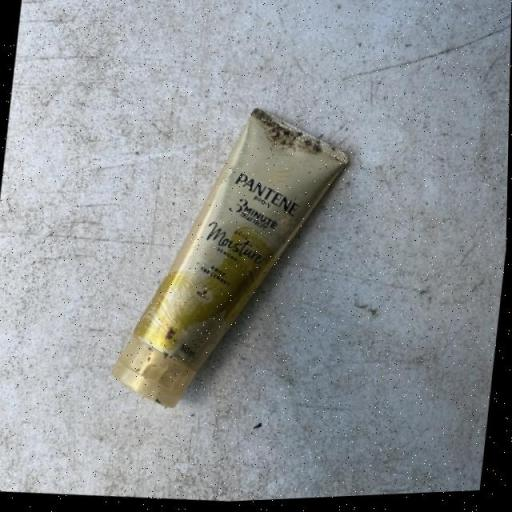plastic: (108, 94, 354, 425)
